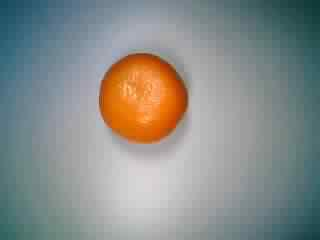orange: (93, 48, 189, 144)
